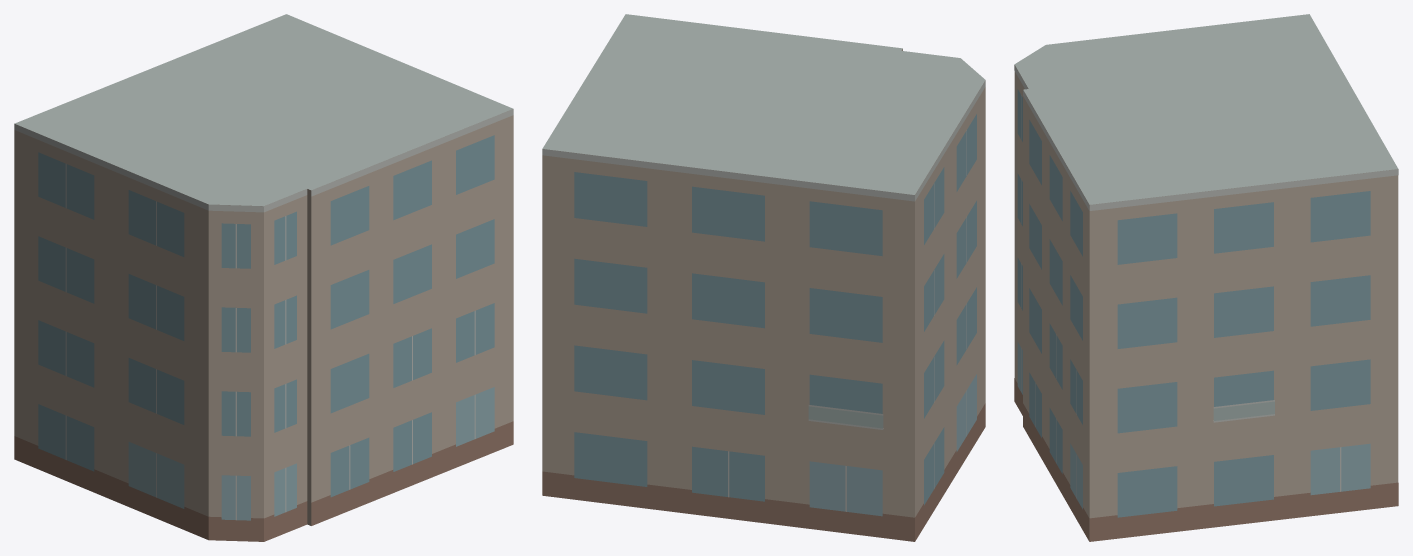
The model's file is survey-upis-32976210.glb.
3 renders of one model, left to right at view 1: azimuth 30°, elevation 25°; view 2: azimuth 150°, elevation 25°; view 3: azimuth 270°, elevation 25°, orthographic. The views are drawn at different scales.
Visible parts, largest first — view 1: survey-upis-32976210.tmp; view 2: survey-upis-32976210.tmp; view 3: survey-upis-32976210.tmp.
Part boxes in pixels (left/top/right/bottom): survey-upis-32976210.tmp: left=14, top=14, right=513, bottom=541; survey-upis-32976210.tmp: left=542, top=14, right=985, bottom=541; survey-upis-32976210.tmp: left=1014, top=14, right=1398, bottom=541.
Bounding box in the file's own units: 15.92 × 13.1 × 13.54.
